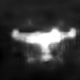plane: (10, 24, 80, 65)
